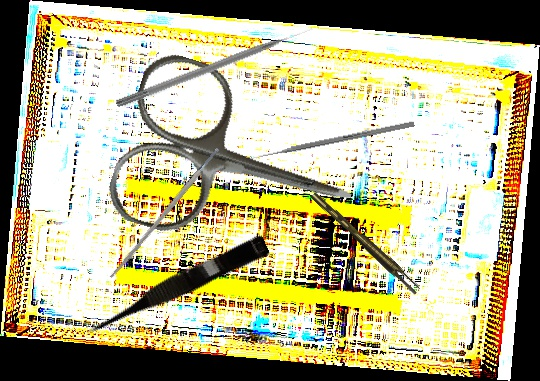Iris Scissors: (101, 47, 376, 281)
Micro Scissor: (80, 230, 271, 342)
Pusher: (115, 24, 315, 111), (248, 120, 415, 162)
Scalpel Handle: (108, 146, 222, 281)
Tissue Forceps: (310, 186, 422, 299)
